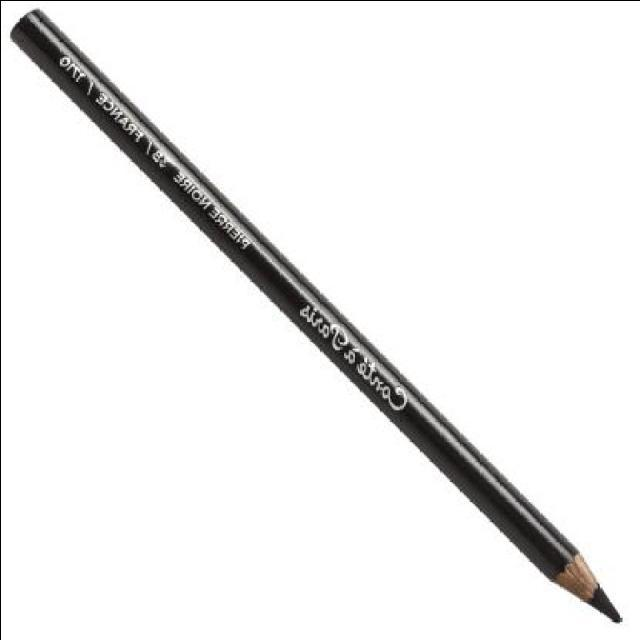pencil: (538, 543, 636, 631)
